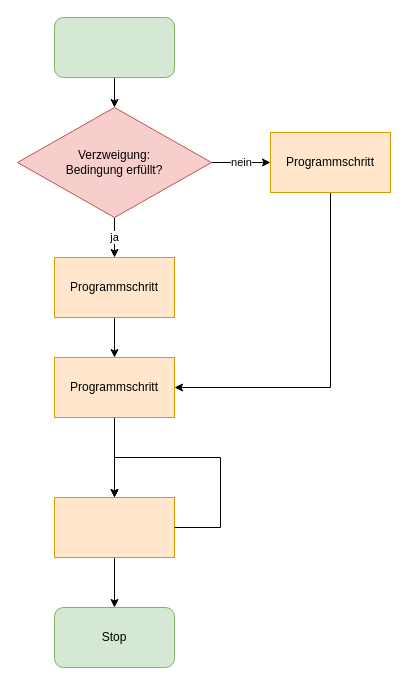
This 408x685 diagram has some shape labels left out. Each missing label, with the box of its shape:
Programmschritt mit Wiederholung: (54, 496, 174, 558)
Start: (54, 16, 174, 78)
